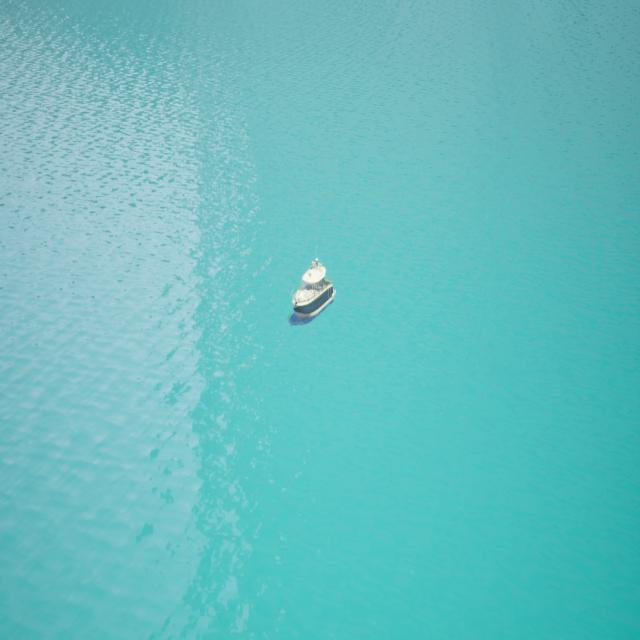ship: (288, 245, 340, 320)
